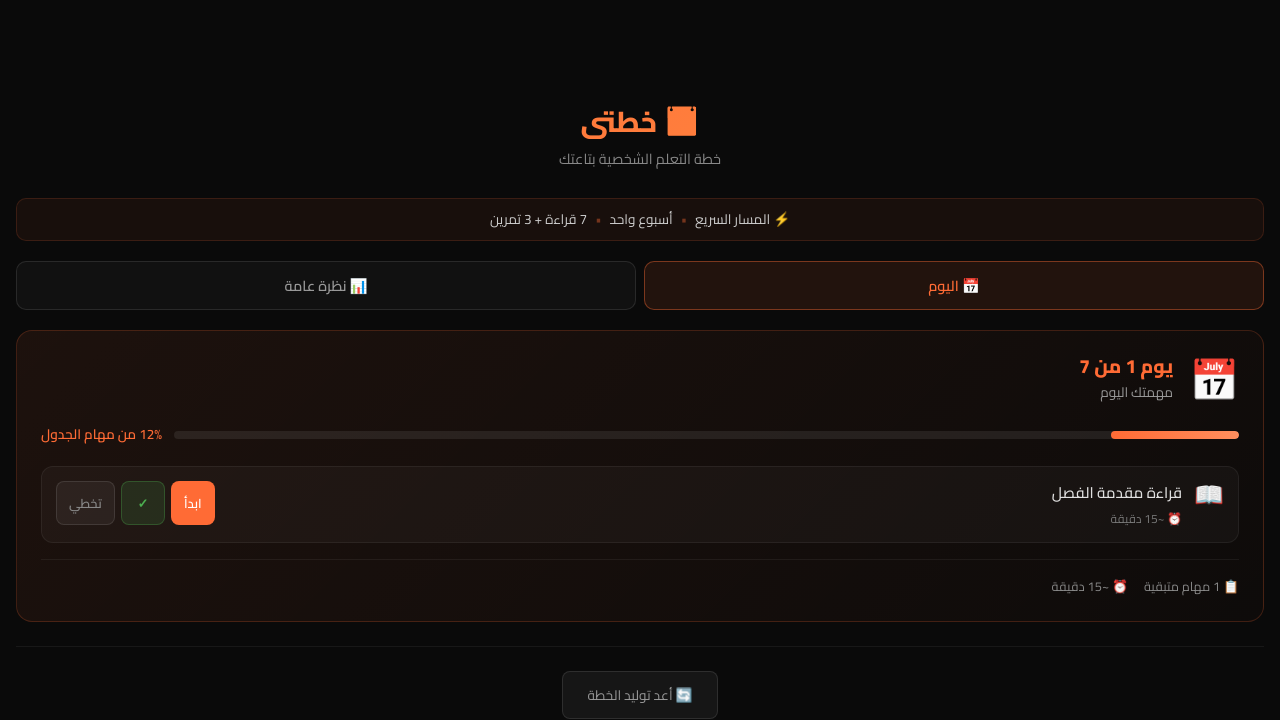
Test: MyPlanPage creates and extends plans sized by daily minutes › asks for daily minutes when regeneration receives needsMinutes
Click the button "🔄 أعد توليد الخطة". click: click(640, 695)
box: x1=562 y1=671 x2=718 y2=719
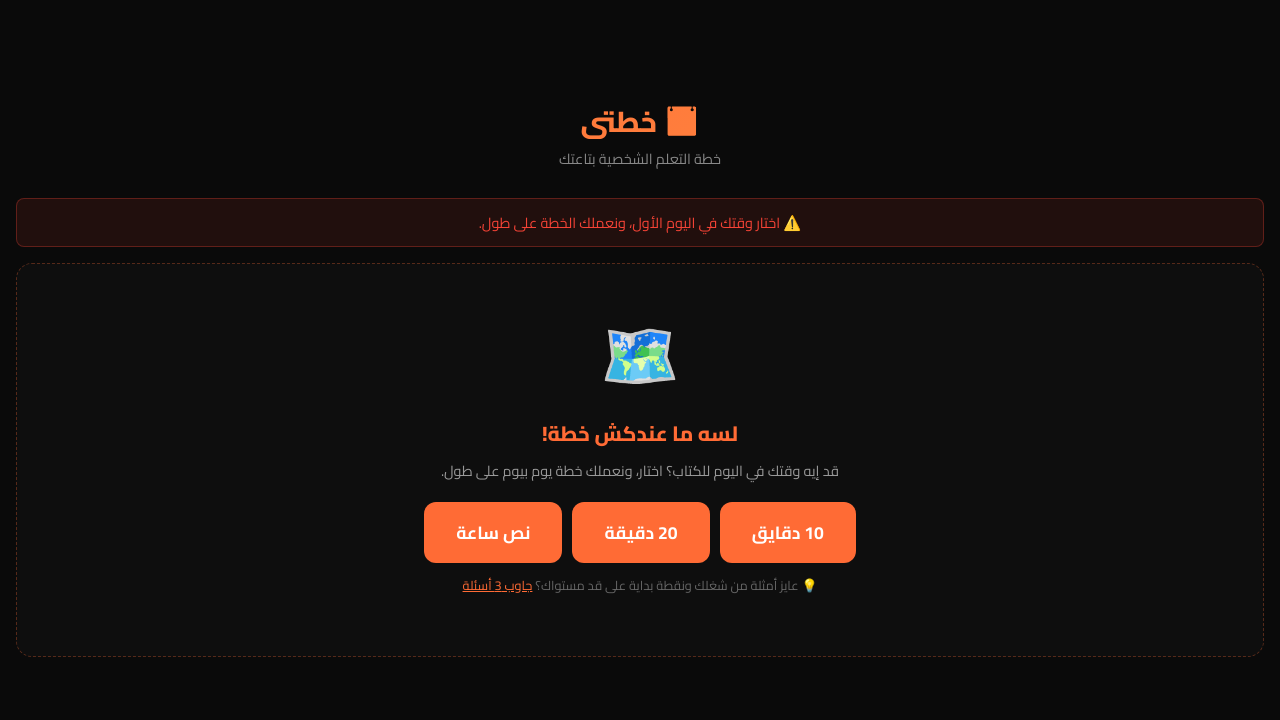
Expected: the text "⚠️ اختار وقتك في اليوم الأول، ونعملك الخطة على طول." is shown, x1=16 y1=198 x2=1264 y2=247
Expected: the button "20 دقيقة" is shown, x1=572 y1=502 x2=710 y2=563
